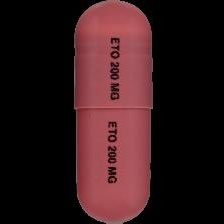54868-5274: (0, 0, 224, 224)
